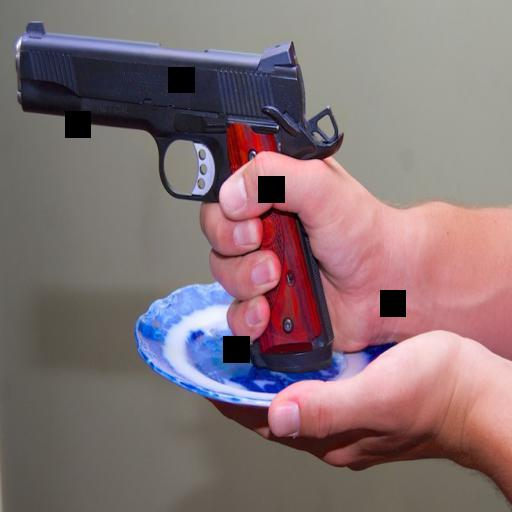Handgun: (15, 19, 342, 384)
